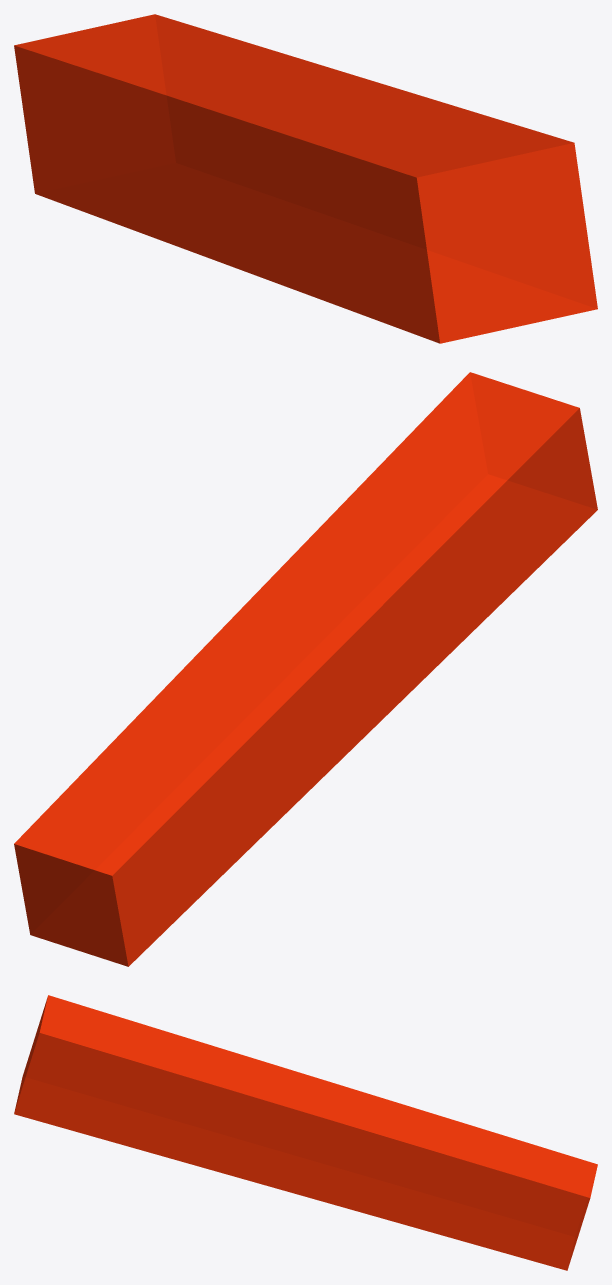
Rendered from Event_420604493_EBrechit_0.fbx.
The picture shows the model from 3 angles, top to bottom: view 1: azimuth 30°, elevation 25°; view 2: azimuth 150°, elevation 25°; view 3: azimuth 270°, elevation 25°; orthographic projection. The views are drawn at different scales.
Visible parts, largest first — view 1: Model; view 2: Model; view 3: Model.
Boxes of the visible parts, box(x1,y1,x2,y2) form: Model: box(14, 14, 597, 343); Model: box(14, 372, 597, 966); Model: box(14, 995, 597, 1270).
Size of the model in its own units: 0.0983 by 0.1592 by 0.3876.
